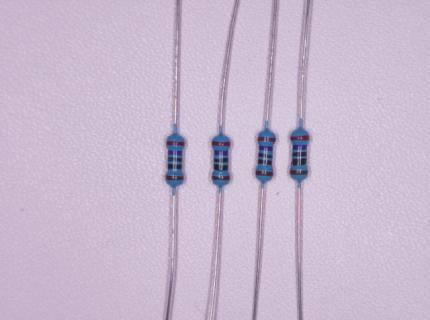Black band: (292, 158, 307, 165), (214, 164, 228, 171), (258, 159, 272, 166), (168, 164, 182, 170), (259, 152, 273, 158), (214, 158, 229, 163), (168, 157, 182, 162), (292, 152, 306, 157)
Brown band: (255, 170, 274, 177), (290, 169, 309, 175), (212, 175, 231, 181), (165, 175, 184, 181)
Red band: (290, 135, 310, 141), (166, 140, 185, 146), (211, 140, 230, 146), (258, 137, 276, 142)
Violet band: (258, 145, 272, 151), (213, 150, 228, 155), (293, 145, 307, 150), (168, 150, 182, 155)
